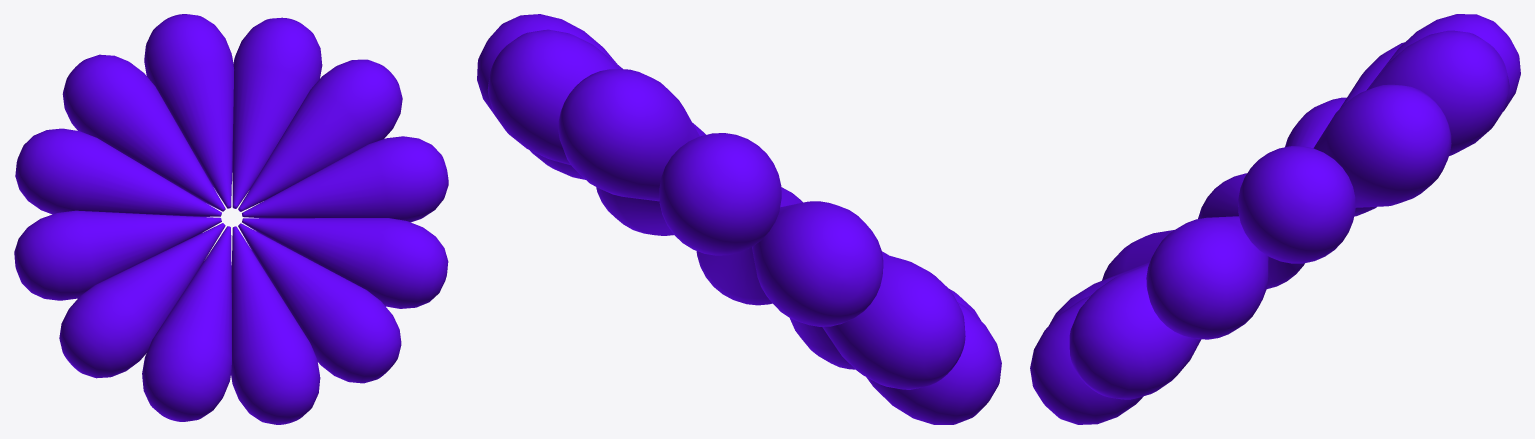
The picture shows the model from 3 angles, left to right: view 1: azimuth 30°, elevation 25°; view 2: azimuth 150°, elevation 25°; view 3: azimuth 270°, elevation 25°; orthographic projection. The views are drawn at different scales.
Visible parts, largest first — view 1: Cone.001; view 2: Cone.001; view 3: Cone.001.
Part boxes in pixels (<box>): Cone.001: <box>14,14,448,424</box>; Cone.001: <box>477,14,1001,424</box>; Cone.001: <box>1030,14,1520,424</box>.
Bounding box in the file's own units: 3.01 × 2.31 × 2.6.
